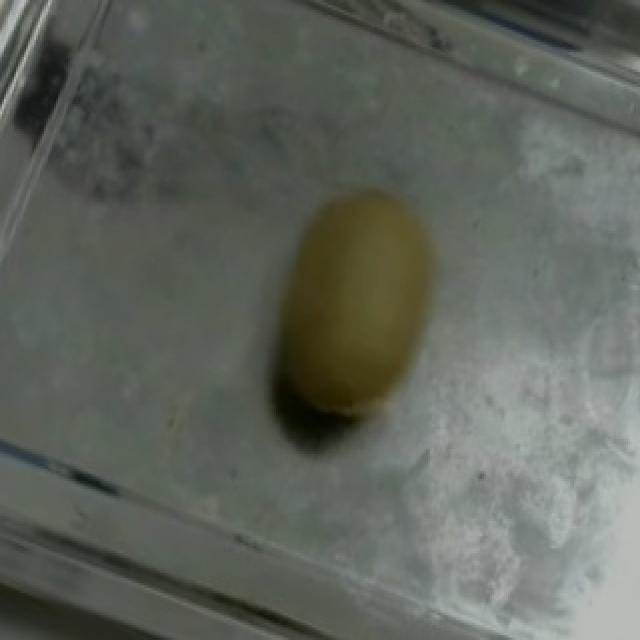Fruit: (224, 152, 482, 466)
